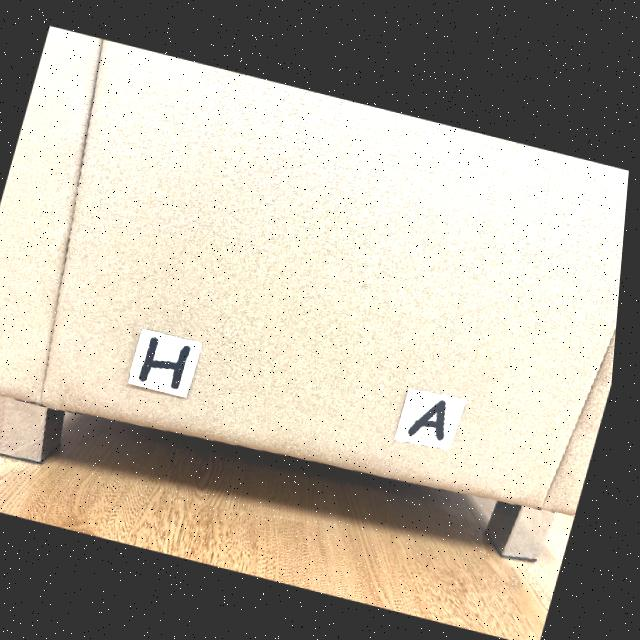A: (415, 396, 453, 437)
H: (145, 336, 197, 387)
